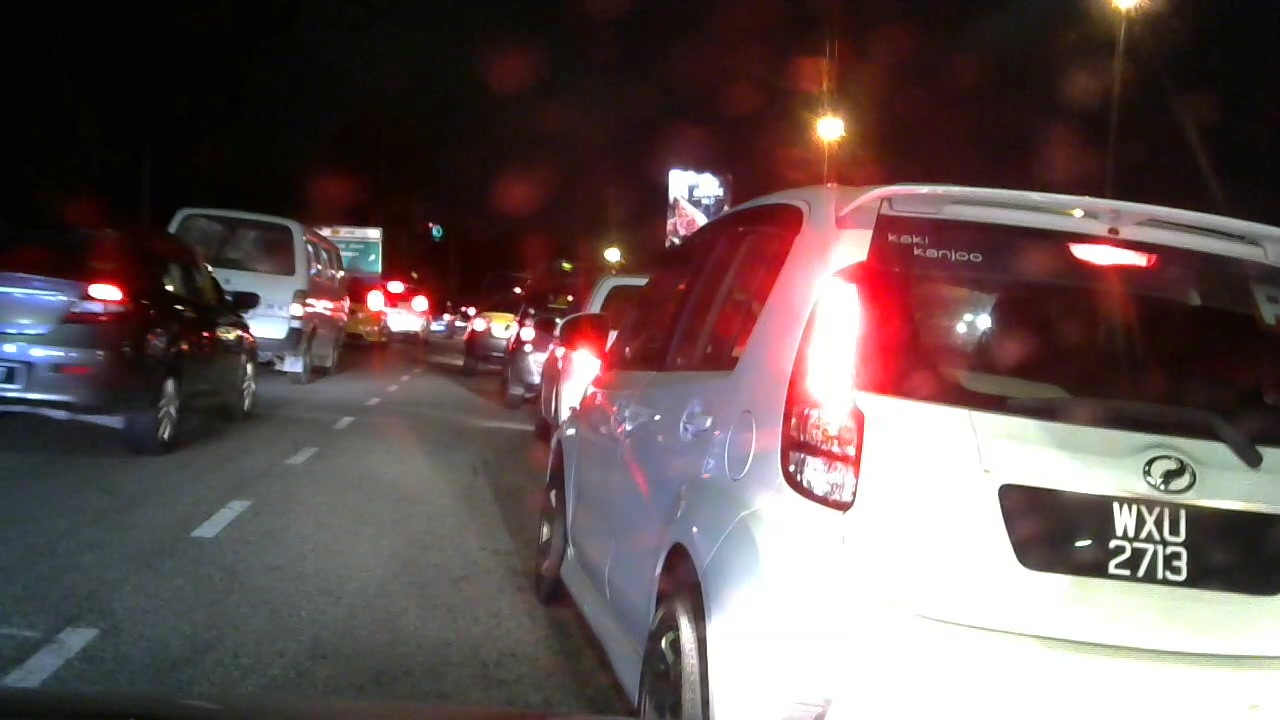Car: (559, 187, 1271, 702), (1, 210, 274, 452), (179, 199, 359, 380), (504, 298, 580, 418), (460, 286, 535, 384), (328, 261, 399, 350), (380, 273, 437, 355)
